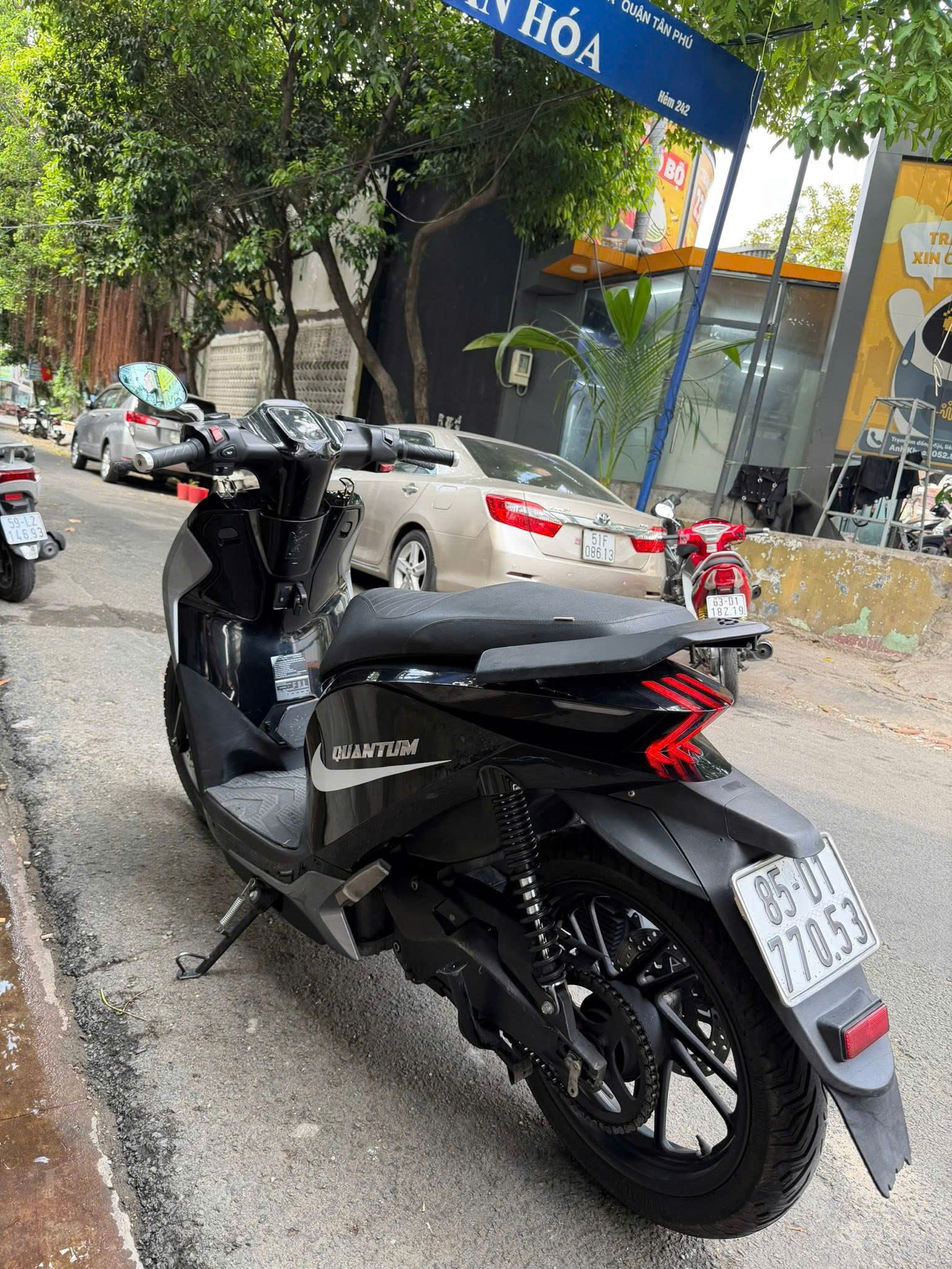Bien-so: (729, 834, 885, 1006), (0, 507, 51, 551), (705, 593, 748, 619), (583, 527, 611, 561)
